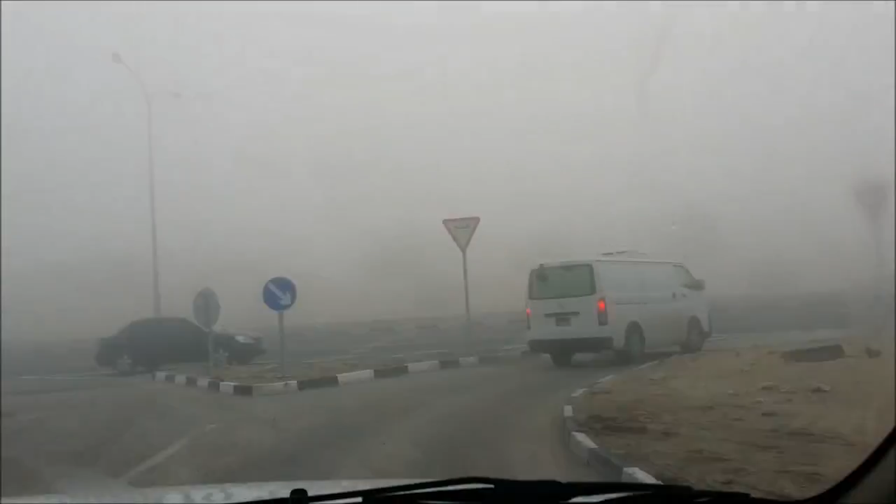bus: (524, 249, 717, 369)
car: (94, 314, 269, 376)
